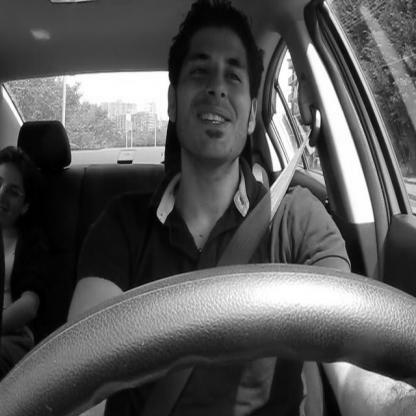seatbelt: (121, 1, 322, 416)
